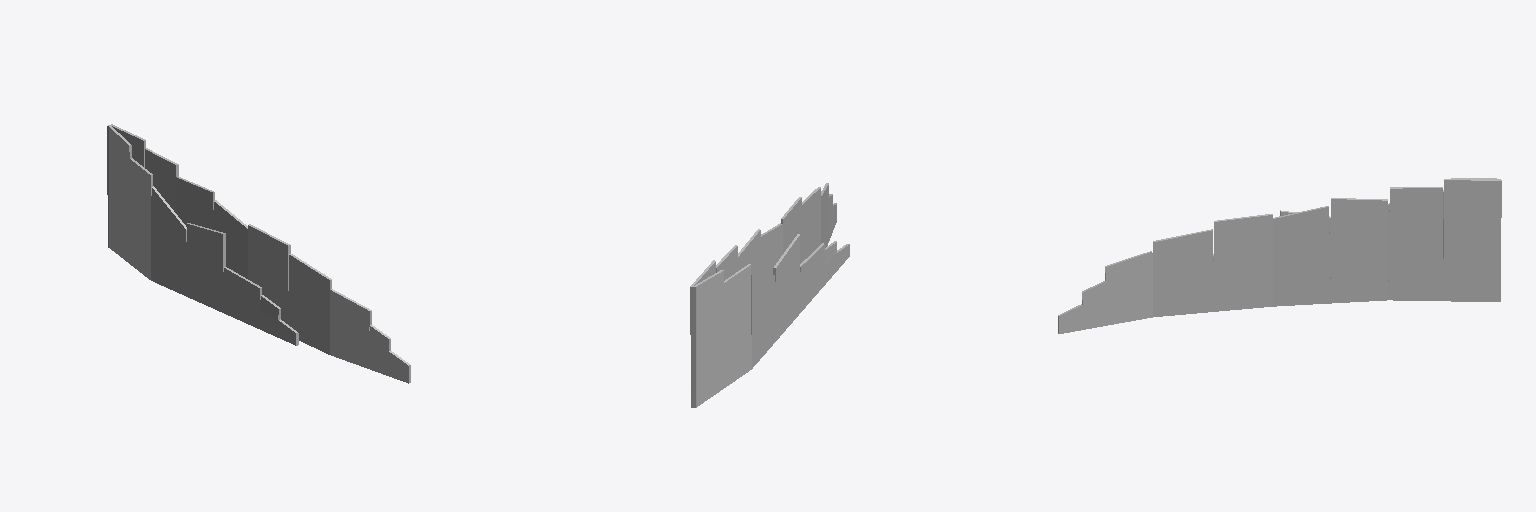
The model's file is track_wall.obj.
3 views of the same model, side by side, from view 1: azimuth 30°, elevation 25°; view 2: azimuth 150°, elevation 25°; view 3: azimuth 270°, elevation 25° (orthographic).
Parts seen in each view (by area): view 1: Wall_Cube.002; view 2: Wall_Cube.002; view 3: Wall_Cube.002.
Boxes of the visible parts, x1,y1,x2,y2 form: Wall_Cube.002: [107, 124, 410, 383]; Wall_Cube.002: [690, 183, 849, 407]; Wall_Cube.002: [1058, 178, 1501, 333].
Size of the model in its own units: 10.35 by 13.94 by 44.81.